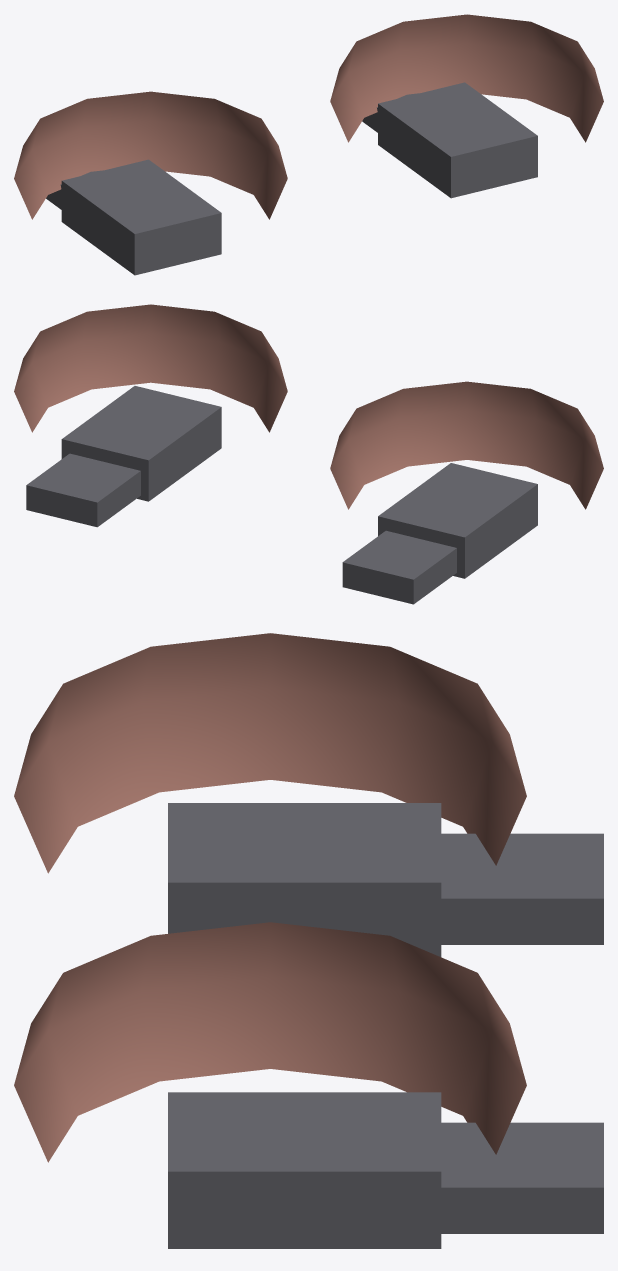
File: martial-arts-dojo-and-fight-stages-focus-mitts-daf20f24__18042.glb
3 renders of one model, top to bottom at view 1: azimuth 30°, elevation 25°; view 2: azimuth 150°, elevation 25°; view 3: azimuth 270°, elevation 25°, orthographic. The views are drawn at different scales.
Parts seen in each view (by area): view 1: focus-mitts; view 2: focus-mitts; view 3: focus-mitts.
Boxes of the visible parts, x1,y1,x2,y2 form: focus-mitts: (14,14,603,275); focus-mitts: (14,304,603,604); focus-mitts: (14,633,603,1248).
Bounding box in the file's own units: 0.7 × 0.12 × 0.345.
